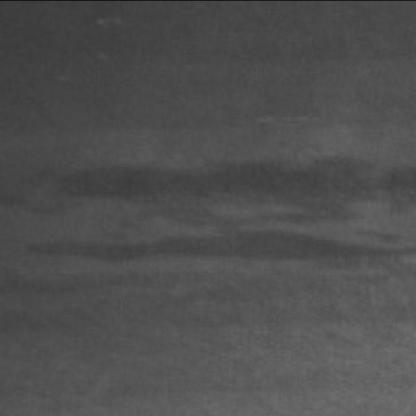inclusion: (18, 154, 410, 260)
